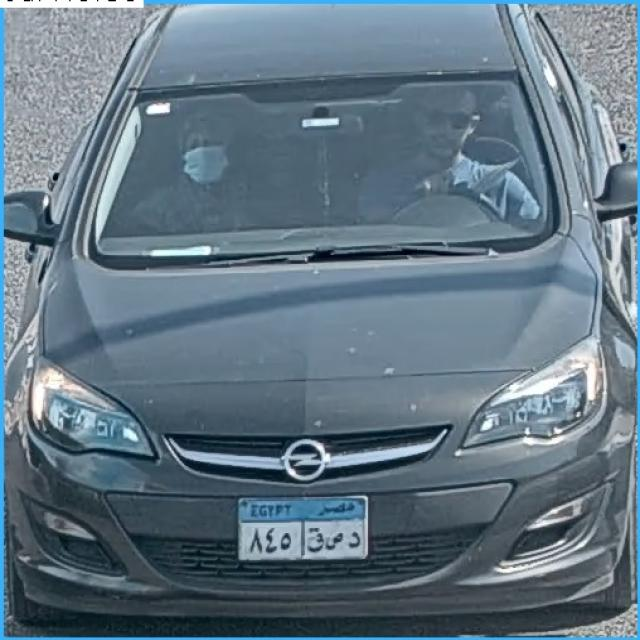windshield: (100, 84, 543, 266)
